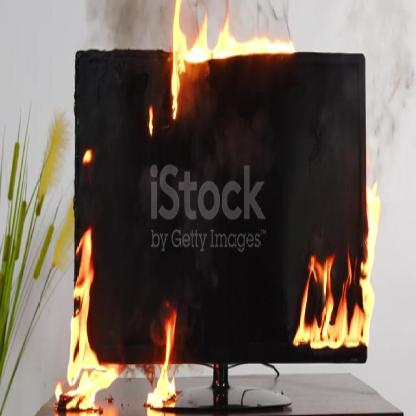fire: (293, 181, 383, 356), (53, 227, 128, 416), (169, 3, 293, 116), (139, 315, 179, 409)
smoke: (78, 0, 173, 72)
